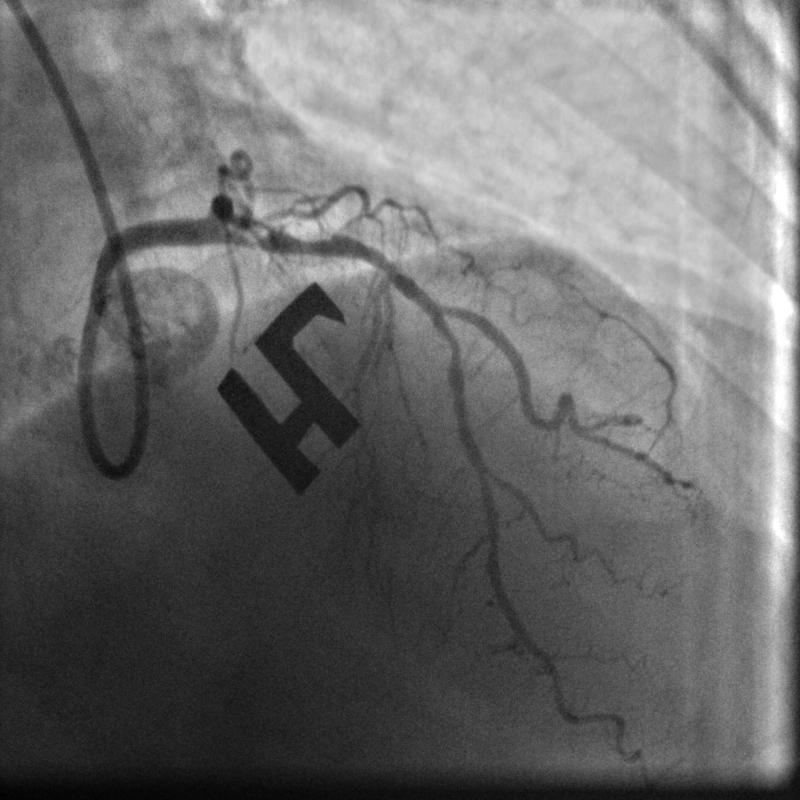Stenosis: (248, 223, 349, 252)
